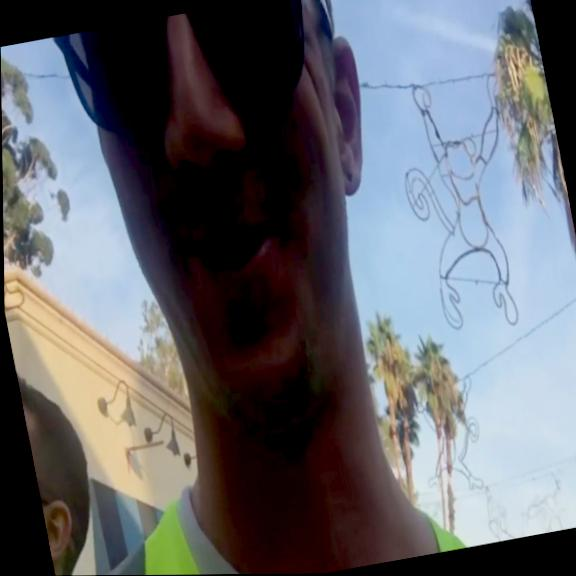safety_vest: (42, 433, 506, 576)
